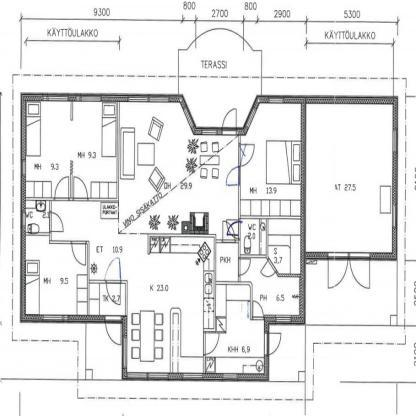bathroom: (239, 220, 266, 258), (24, 201, 50, 234)
door: (325, 246, 374, 292), (102, 256, 125, 308), (103, 313, 124, 349), (201, 330, 224, 358), (261, 330, 284, 358), (70, 239, 89, 271), (71, 173, 90, 205), (220, 104, 240, 134), (52, 173, 71, 203), (236, 142, 257, 169), (225, 163, 244, 190), (45, 211, 65, 234), (258, 256, 278, 278), (235, 255, 250, 280)
perimeter: (22, 94, 393, 378)
window: (124, 91, 172, 106), (39, 310, 72, 327), (74, 90, 105, 107), (242, 107, 260, 134), (39, 92, 70, 106), (182, 103, 196, 134), (181, 367, 206, 384), (389, 123, 401, 158), (148, 367, 172, 384), (273, 309, 294, 327), (265, 91, 287, 108), (220, 370, 245, 384), (389, 201, 399, 232), (199, 125, 219, 140), (124, 369, 147, 380), (17, 209, 28, 228), (20, 156, 28, 176)
